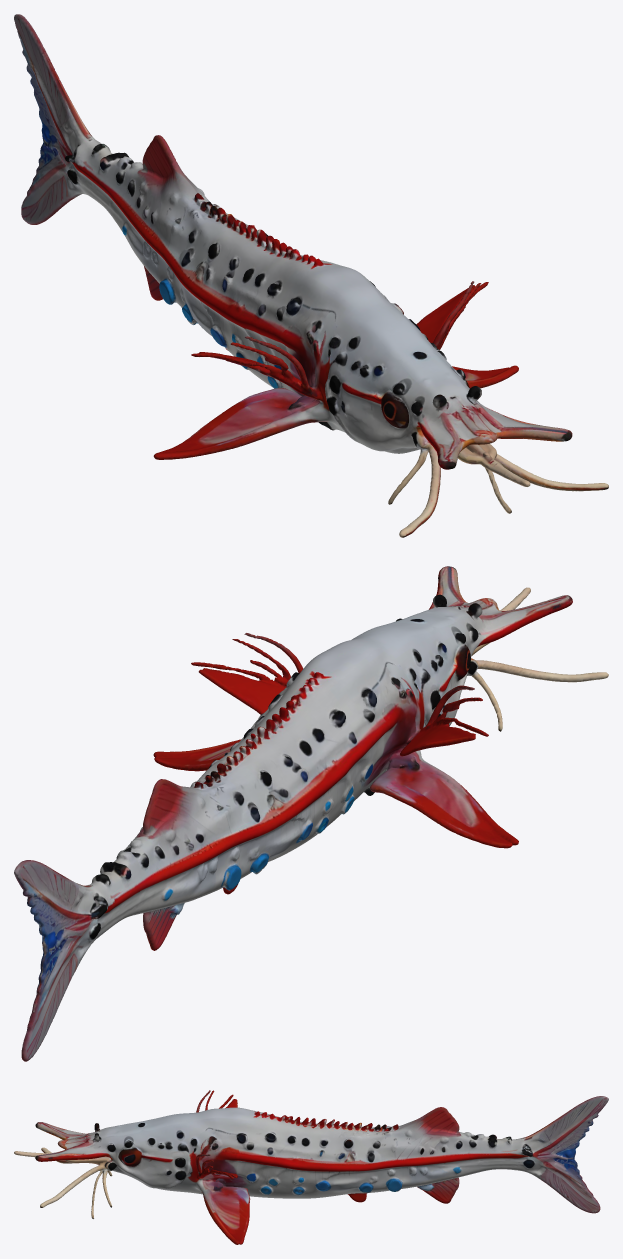
The model's file is fish_giant_oarfish.glb.
3 renders of one model, top to bottom at view 1: azimuth 30°, elevation 25°; view 2: azimuth 150°, elevation 25°; view 3: azimuth 270°, elevation 25°, orthographic. The views are drawn at different scales.
Visible parts, largest first — view 1: tripo_node_ad760ac6-0098-4b5d-b2ef-d4cfd3bac79c; view 2: tripo_node_ad760ac6-0098-4b5d-b2ef-d4cfd3bac79c; view 3: tripo_node_ad760ac6-0098-4b5d-b2ef-d4cfd3bac79c.
Boxes of the visible parts, x1=… form: tripo_node_ad760ac6-0098-4b5d-b2ef-d4cfd3bac79c: x1=14, y1=14, x2=608, y2=537; tripo_node_ad760ac6-0098-4b5d-b2ef-d4cfd3bac79c: x1=14, y1=566, x2=608, y2=1061; tripo_node_ad760ac6-0098-4b5d-b2ef-d4cfd3bac79c: x1=14, y1=1090, x2=608, y2=1244.
Bounding box in the file's own units: 0.409 × 0.2175 × 1.
Materials: 1 (1 with a texture image).
